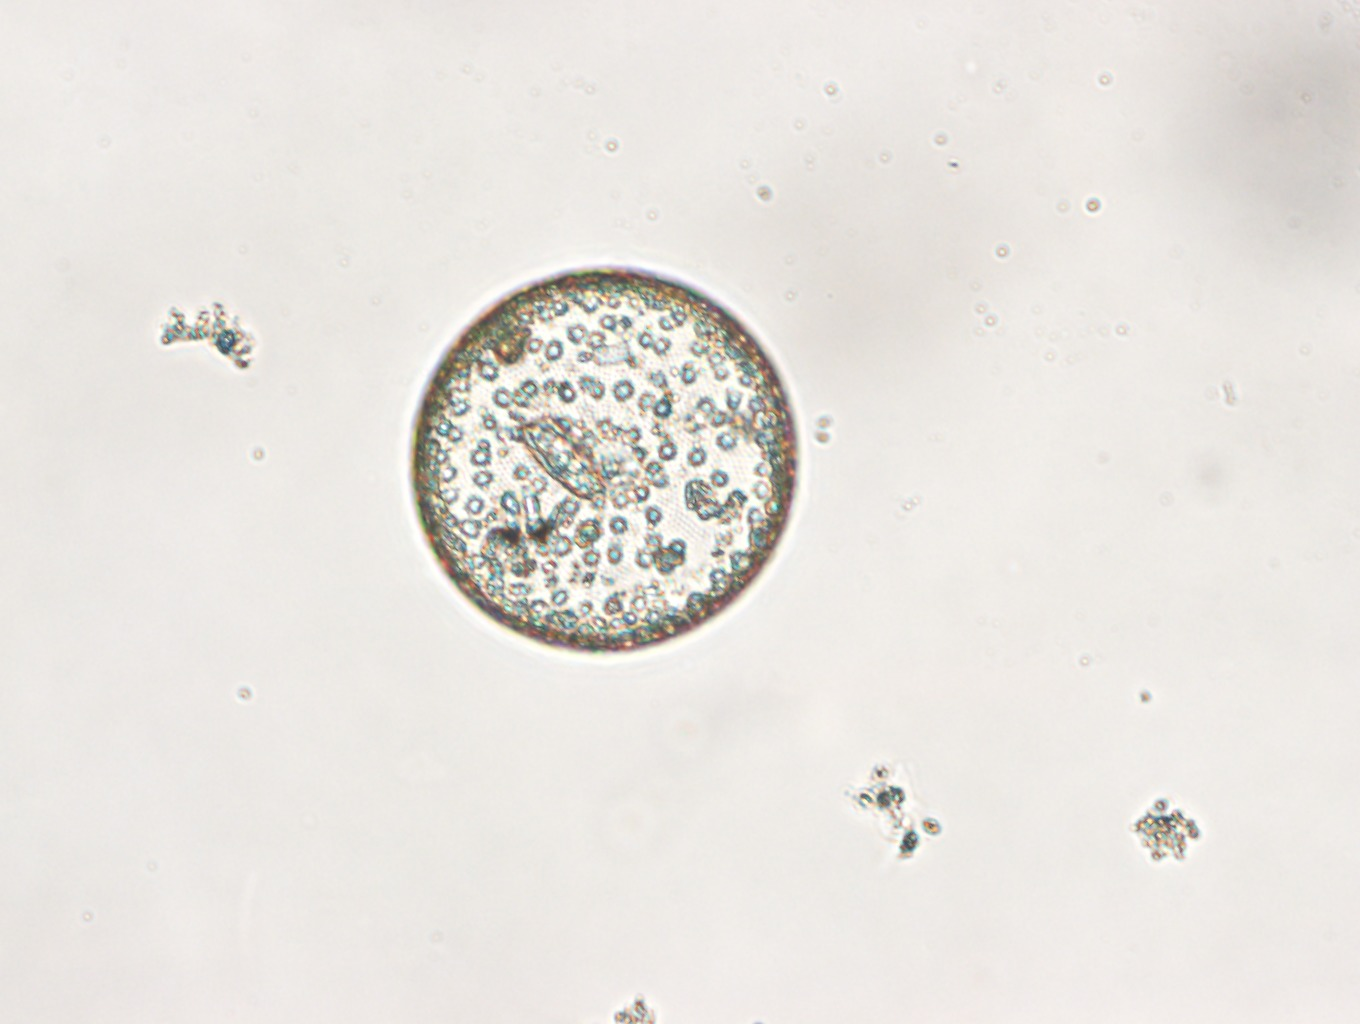coscinodiscus: (411, 264, 799, 653)
